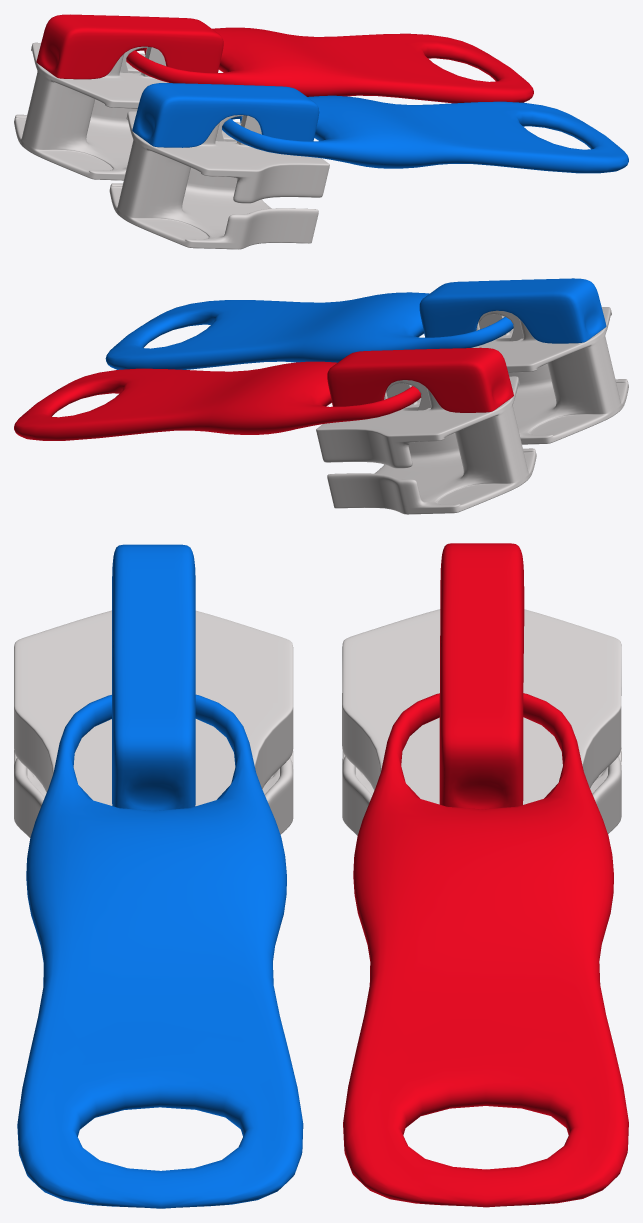
File: zipper.glb
3 views of the same model, one above another, from view 1: azimuth 30°, elevation 25°; view 2: azimuth 150°, elevation 25°; view 3: azimuth 270°, elevation 25° (orthographic). The views are drawn at different scales.
Parts seen in each view (by area): view 1: Torus, Cube, Torus_0.001, Cube_0.001, Cube.001_0.001, Cube.001; view 2: Torus_0.001, Cube_0.001, Torus, Cube, Cube.001, Cube.001_0.001, Plane, Plane_0.001; view 3: Torus, Torus_0.001, Cube, Cube_0.001, Cube.001_0.001, Cube.001.
Part boxes in pixels (left/top/right/bottom): Torus: left=222, top=95, right=628, bottom=173; Cube: left=109, top=111, right=329, bottom=249; Torus_0.001: left=126, top=27, right=533, bottom=103; Cube_0.001: left=14, top=42, right=168, bottom=180; Cube.001_0.001: left=36, top=14, right=223, bottom=79; Cube.001: left=132, top=83, right=319, bottom=147; Torus_0.001: left=14, top=361, right=421, bottom=440; Cube_0.001: left=316, top=376, right=536, bottom=514; Torus: left=105, top=292, right=513, bottom=369; Cube: left=472, top=307, right=628, bottom=444; Cube.001: left=419, top=278, right=606, bottom=343; Cube.001_0.001: left=327, top=347, right=513, bottom=412; Plane: left=478, top=310, right=523, bottom=341; Plane_0.001: left=386, top=380, right=430, bottom=410; Torus: left=17, top=694, right=303, bottom=1208; Torus_0.001: left=343, top=693, right=628, bottom=1207; Cube: left=14, top=610, right=293, bottom=837; Cube_0.001: left=342, top=609, right=621, bottom=835; Cube.001_0.001: left=439, top=543, right=524, bottom=809; Cube.001: left=112, top=544, right=195, bottom=810.
Bounding box in the file's own units: 3.65 × 1.15 × 2.27.
